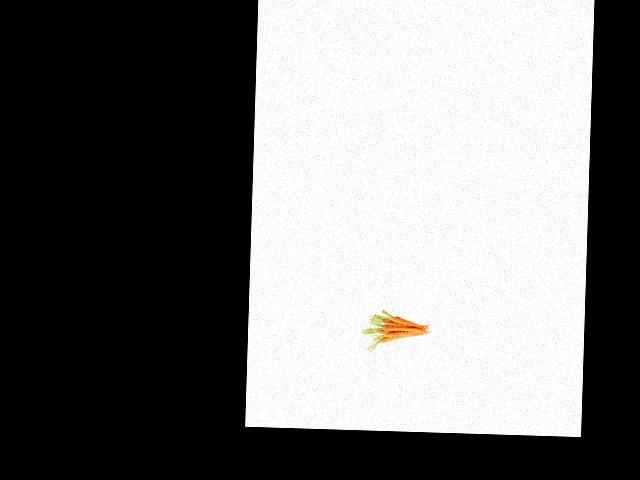carrot: (389, 313, 427, 331)
